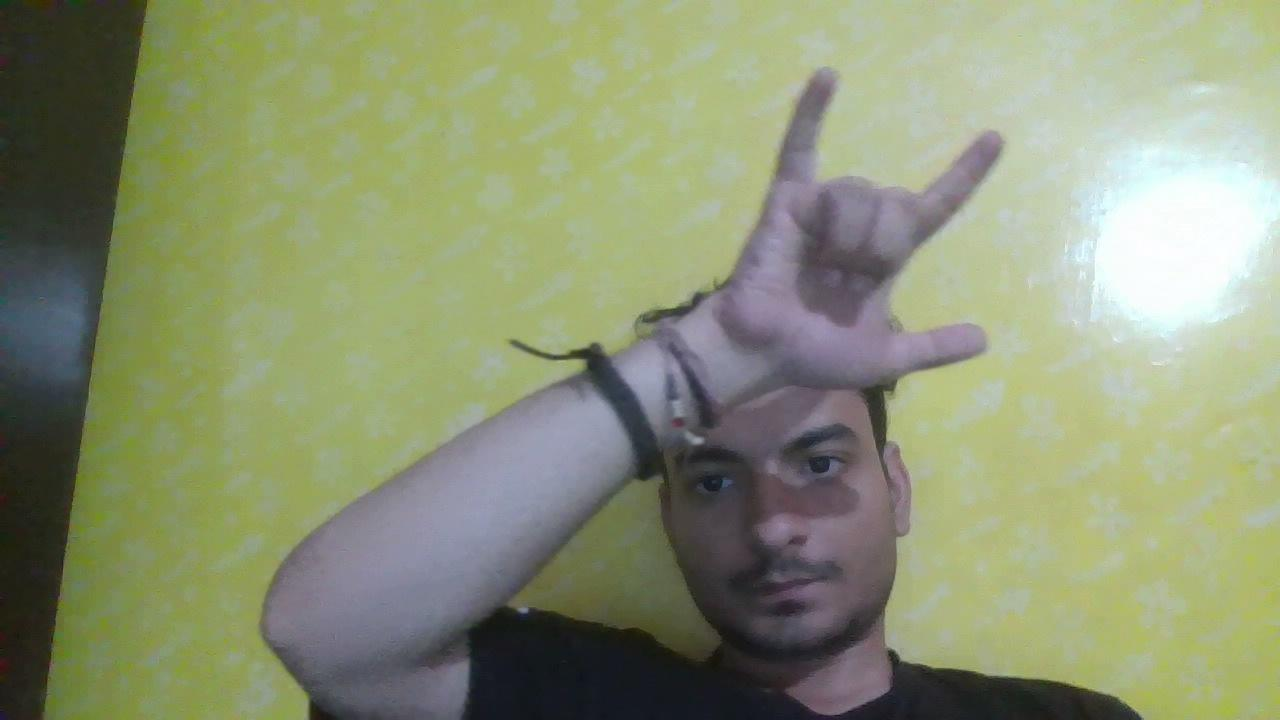Loveyou: (654, 87, 1074, 428)
